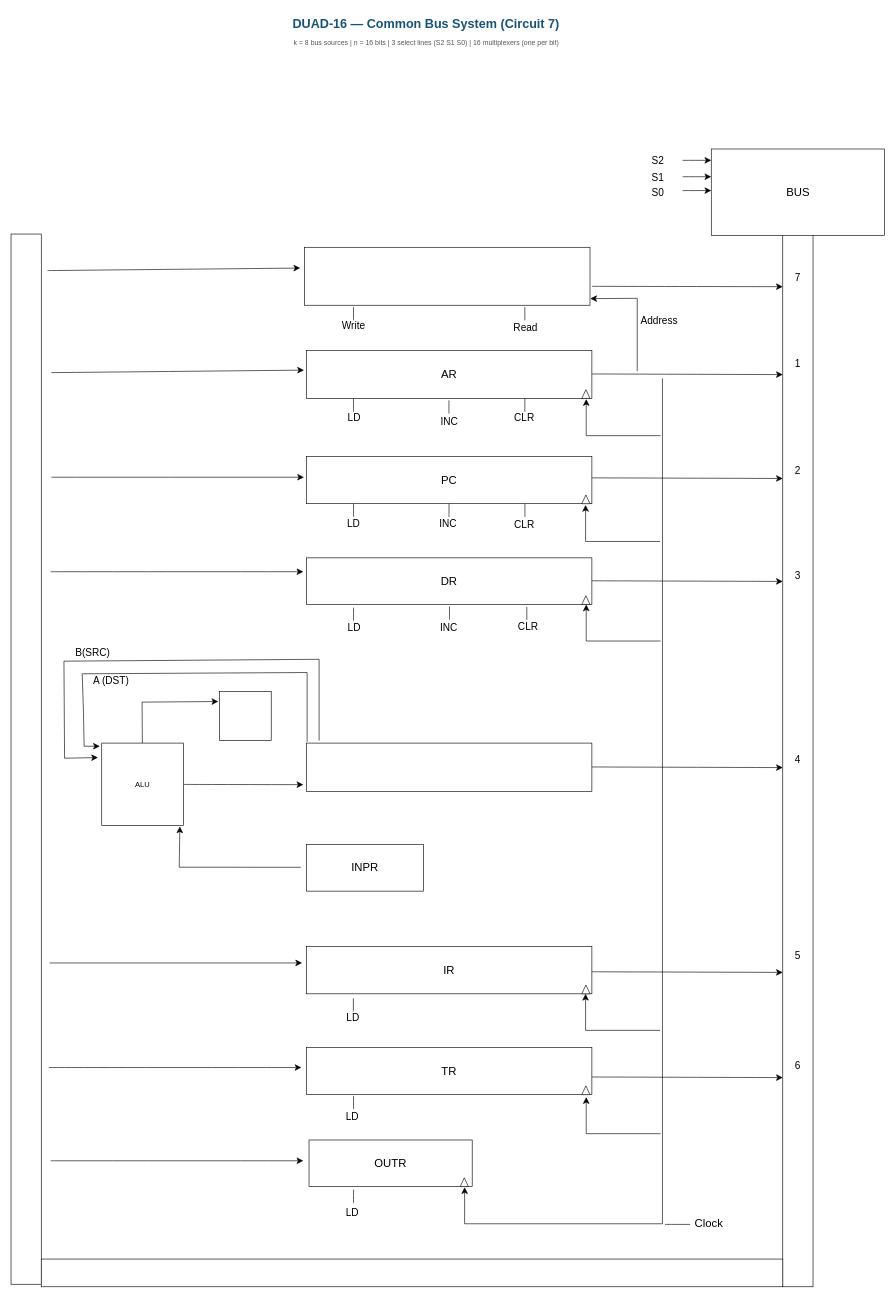
This 896x1298 diagram has some shape labels left out. Here are the shapes that lost their labels. From the top down, the box of each, then its label:
(304, 247, 590, 305): Memory Unit 4096x16
(219, 691, 271, 741): Z/C/N FLAGS
(306, 742, 592, 792): Register File (R0-R7)
(41, 1258, 783, 1287): 16-bit common bus
